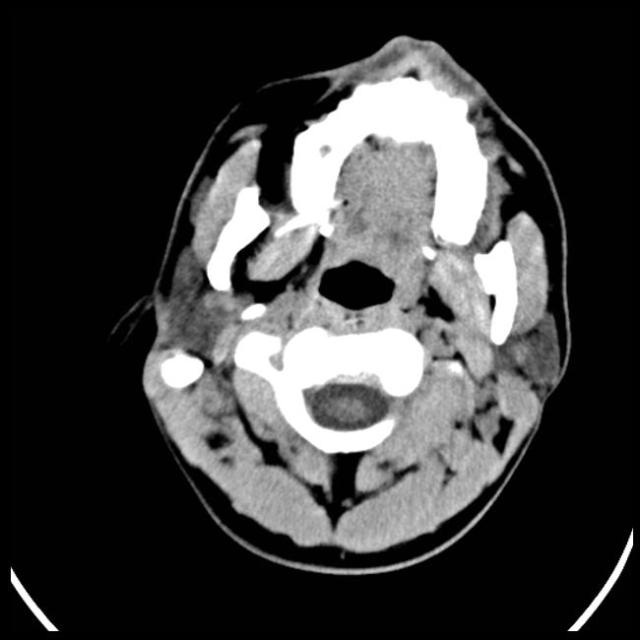lesion: (126, 36, 574, 571)
